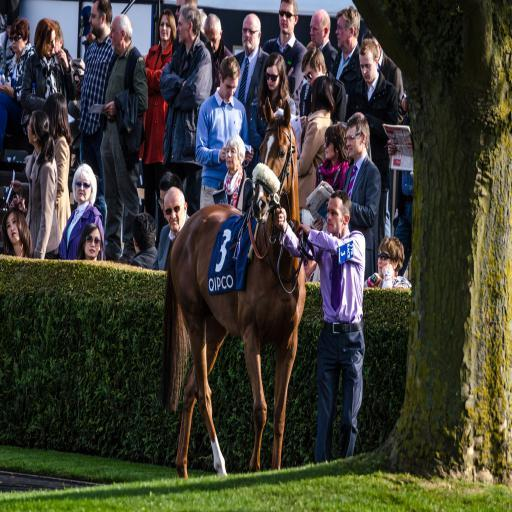horse: (161, 96, 307, 480)
